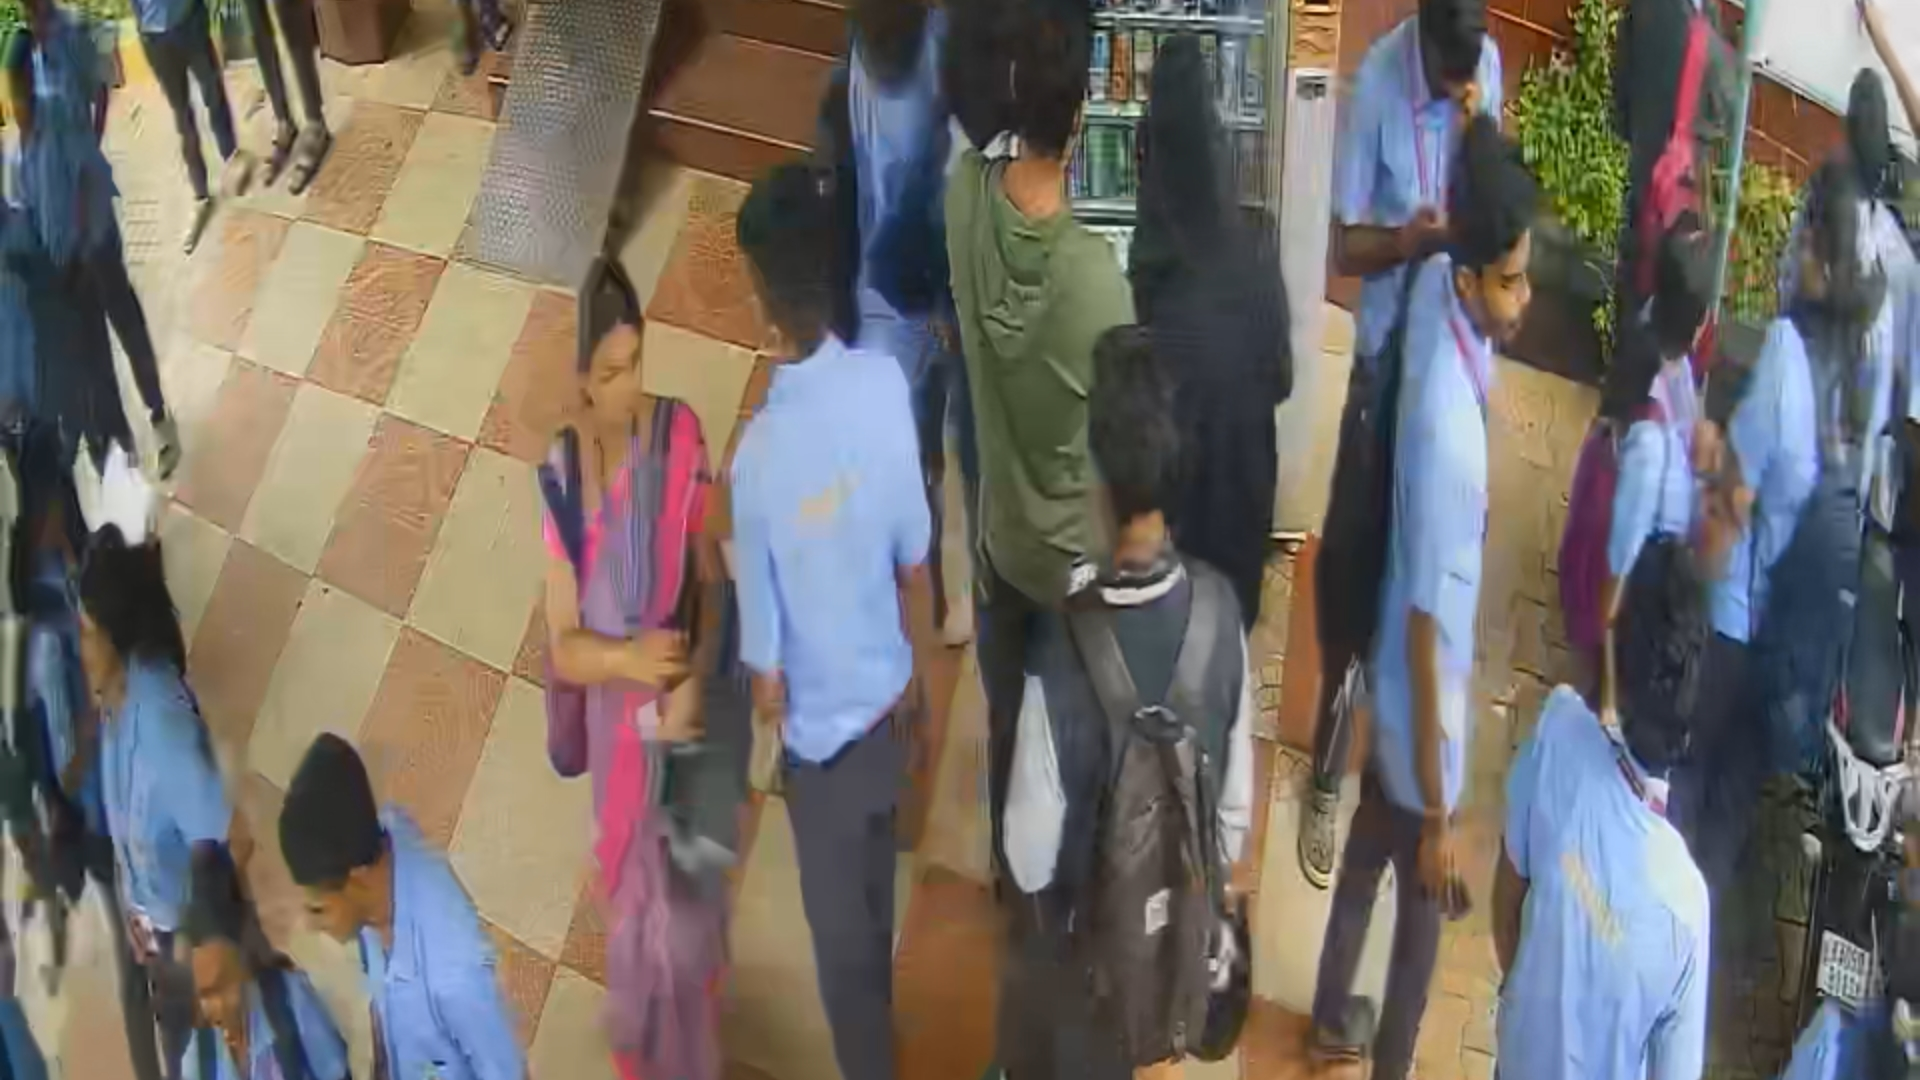not intruder: (497, 268, 729, 1080), (1342, 1, 1498, 255)
